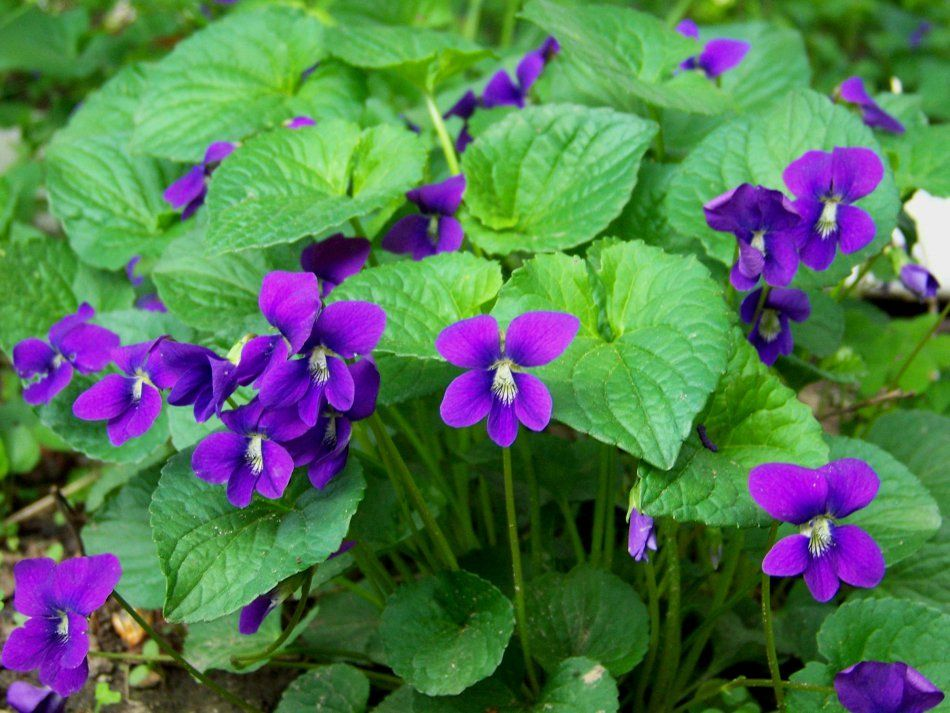violet: (735, 453, 908, 612), (415, 309, 580, 441), (250, 283, 382, 417), (17, 554, 139, 688), (777, 145, 894, 278), (708, 186, 808, 304), (193, 420, 319, 510), (78, 343, 181, 437), (389, 171, 486, 266)
